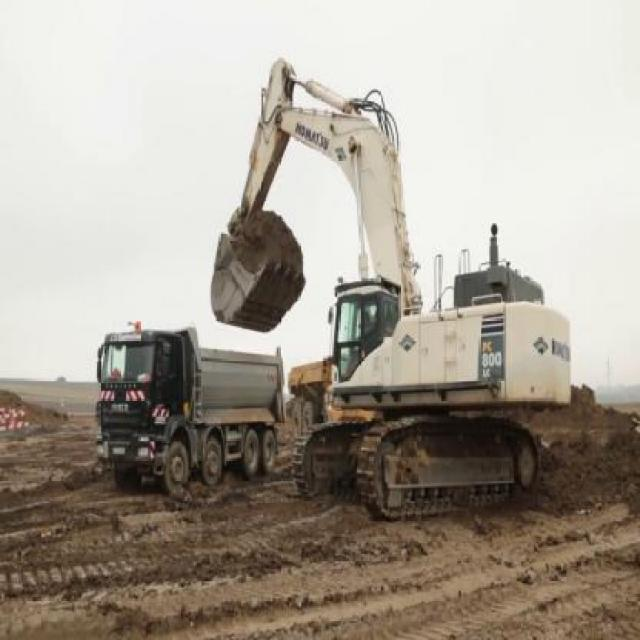dump truck: (94, 320, 286, 498), (288, 353, 383, 441)
excavator: (209, 57, 571, 520)
